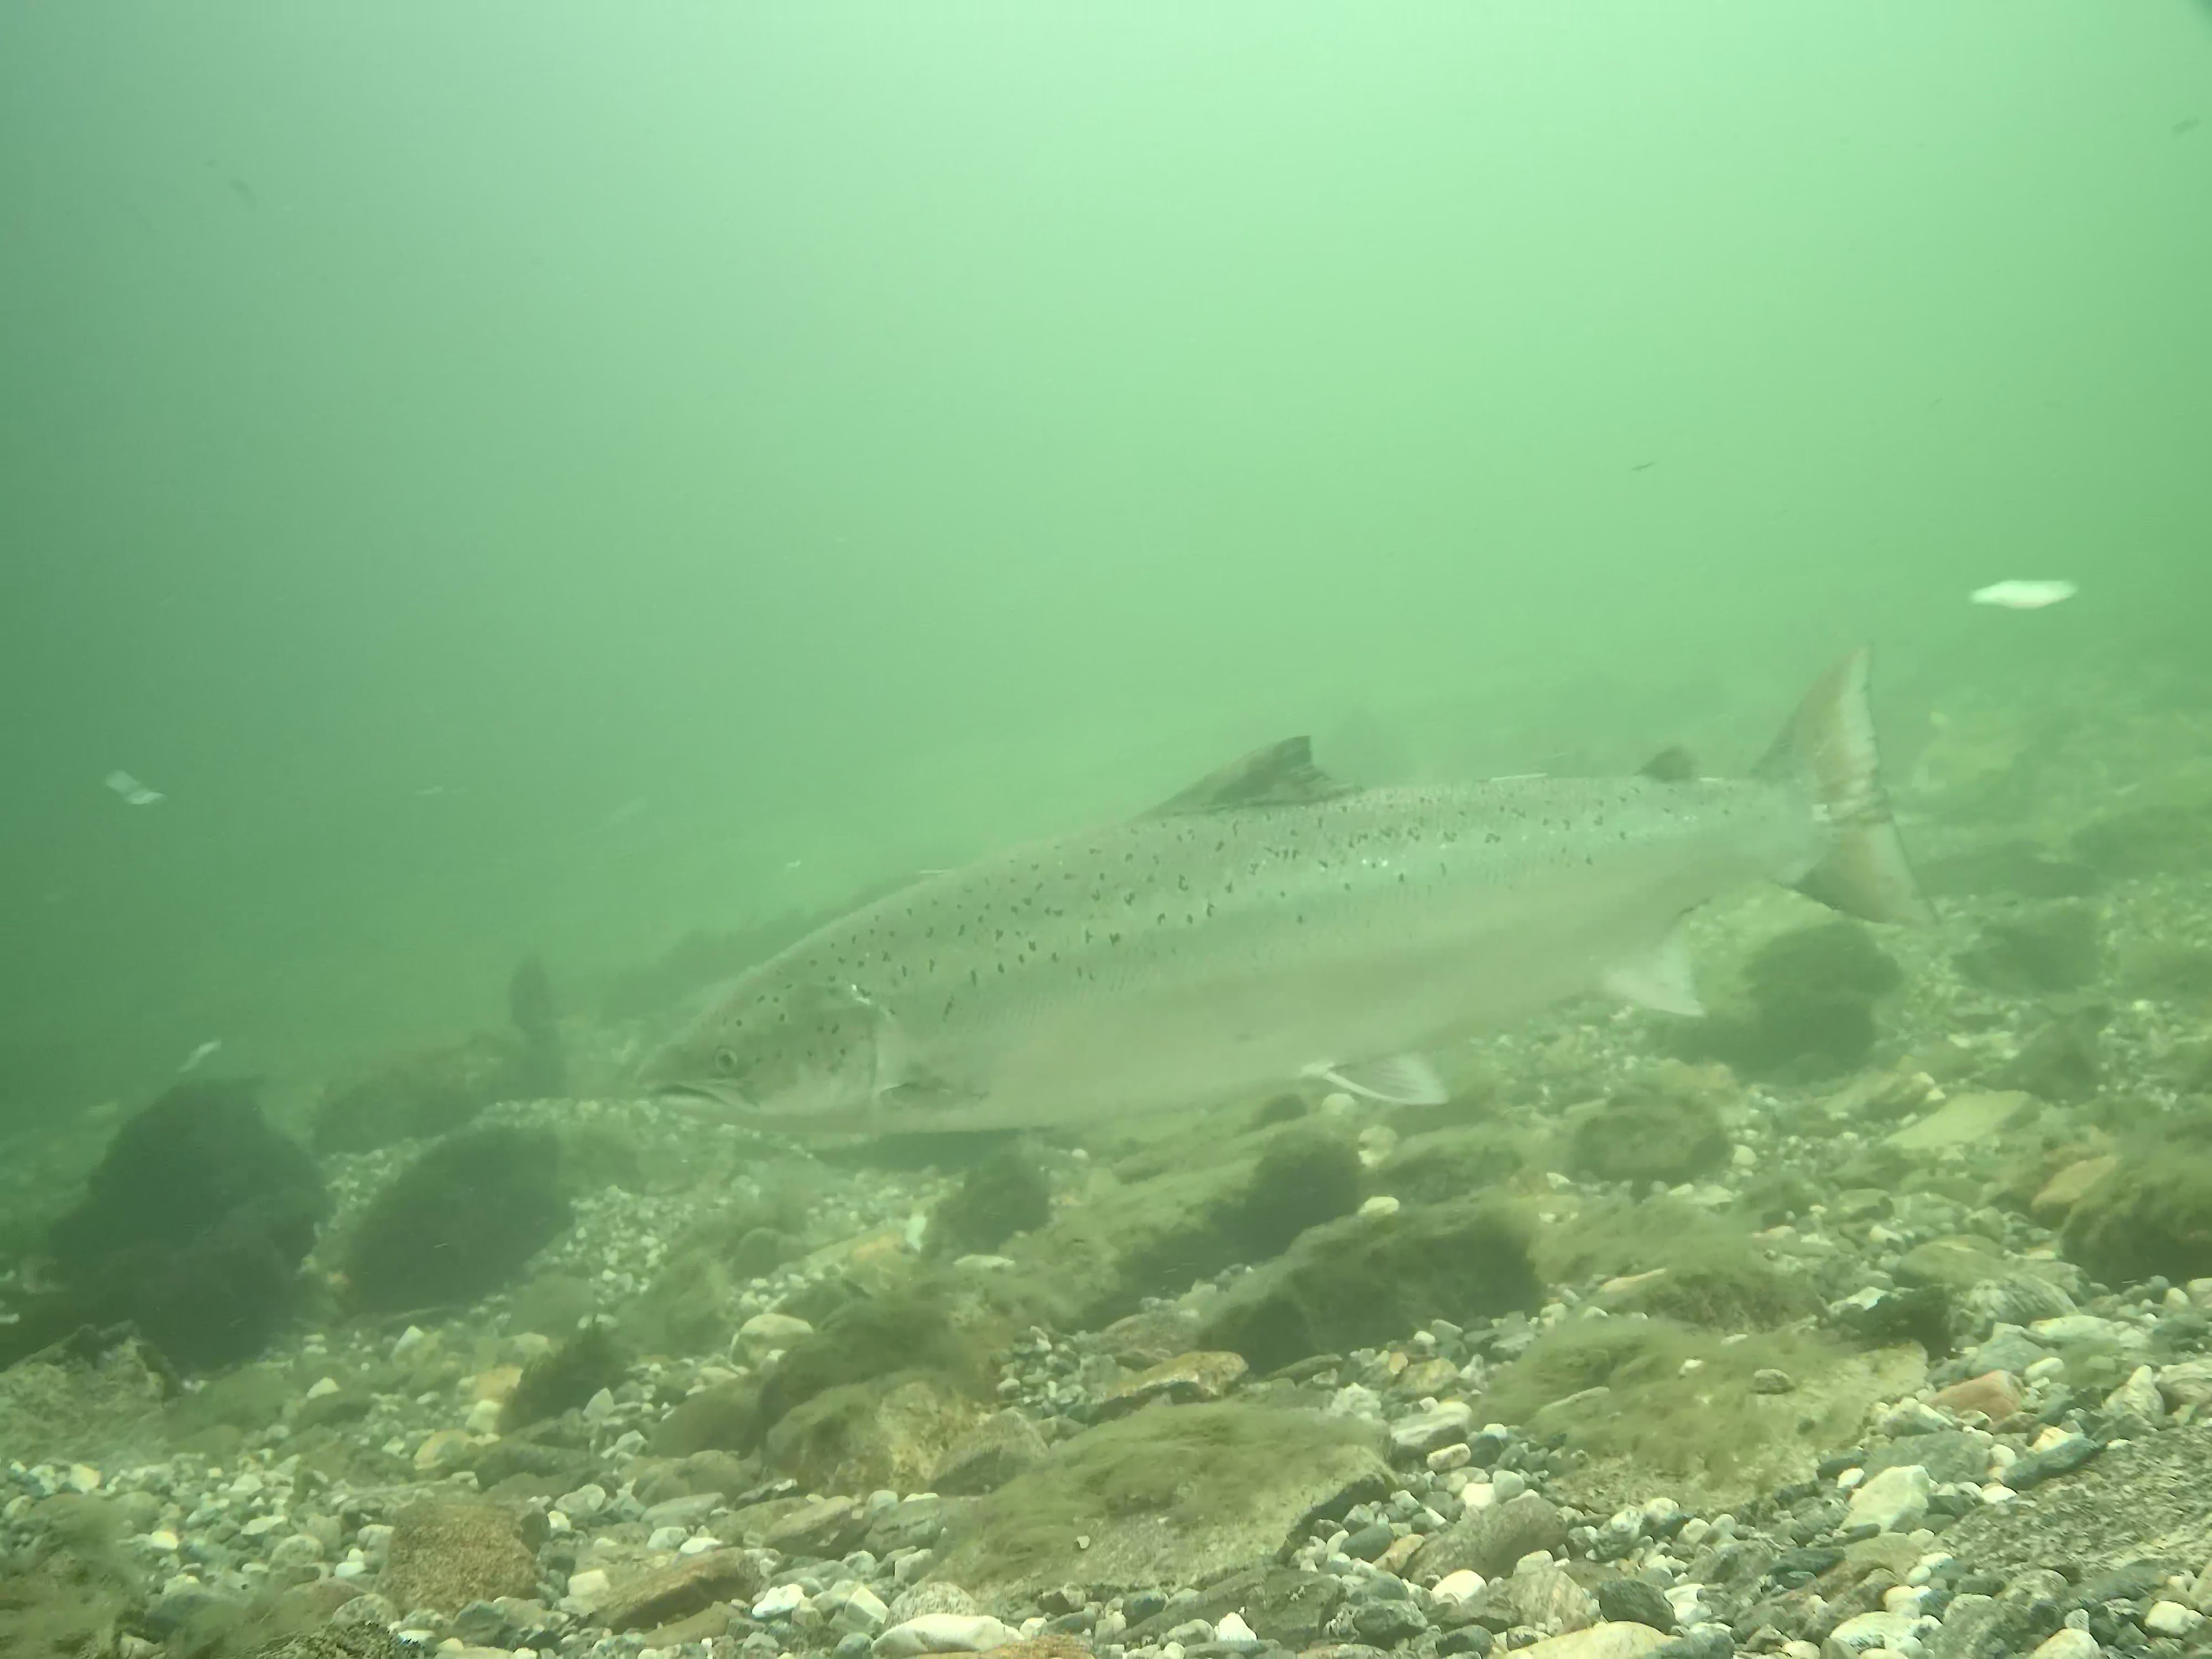salmon: (631, 636, 1947, 1141)
